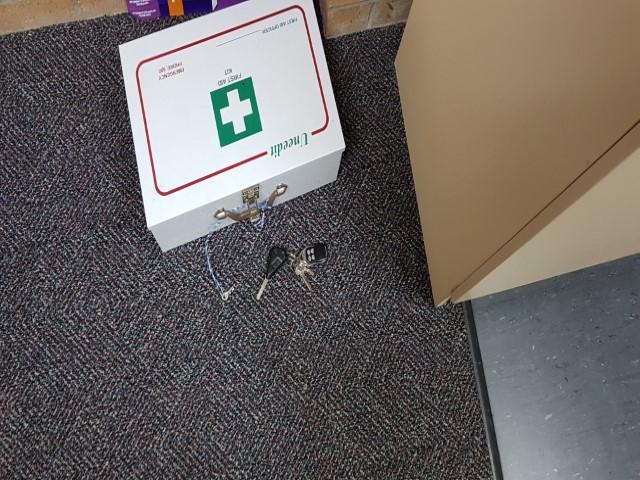key: (253, 246, 287, 300)
